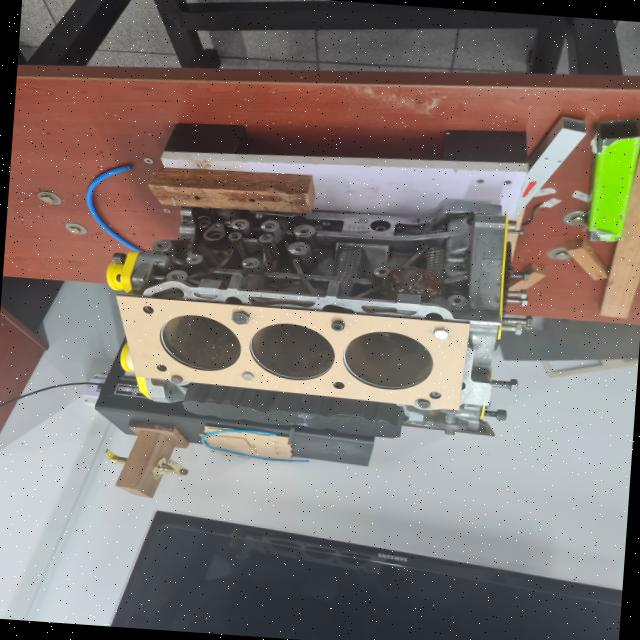tor_v1: (115, 295, 470, 410)
